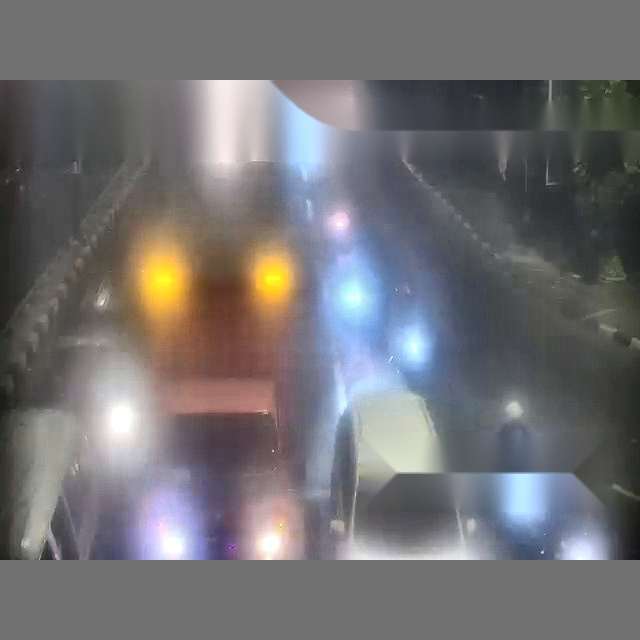Motor: (138, 239, 190, 346)
